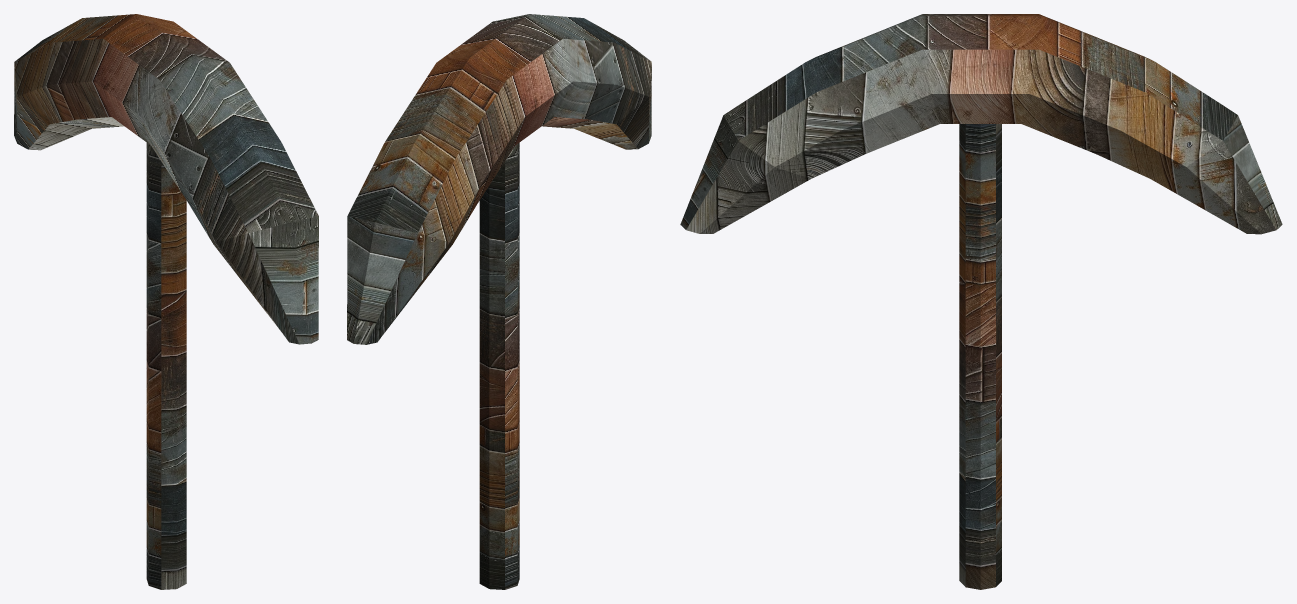
Rendered from pick.dae.
The picture shows the model from 3 angles, left to right: view 1: azimuth 30°, elevation 25°; view 2: azimuth 150°, elevation 25°; view 3: azimuth 270°, elevation 25°; orthographic projection. The views are drawn at different scales.
Visible parts, largest first — view 1: Torus.001; view 2: Torus.001; view 3: Torus.001.
Boxes of the visible parts, x1,y1,x2,y2 form: Torus.001: (14,14,318,589); Torus.001: (347,14,651,589); Torus.001: (680,14,1282,589).
Bounding box in the file's own units: 0.3456 × 1.75 × 1.81.
1 material, 1 textured.
